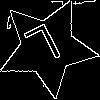L: (22, 22, 68, 76)
